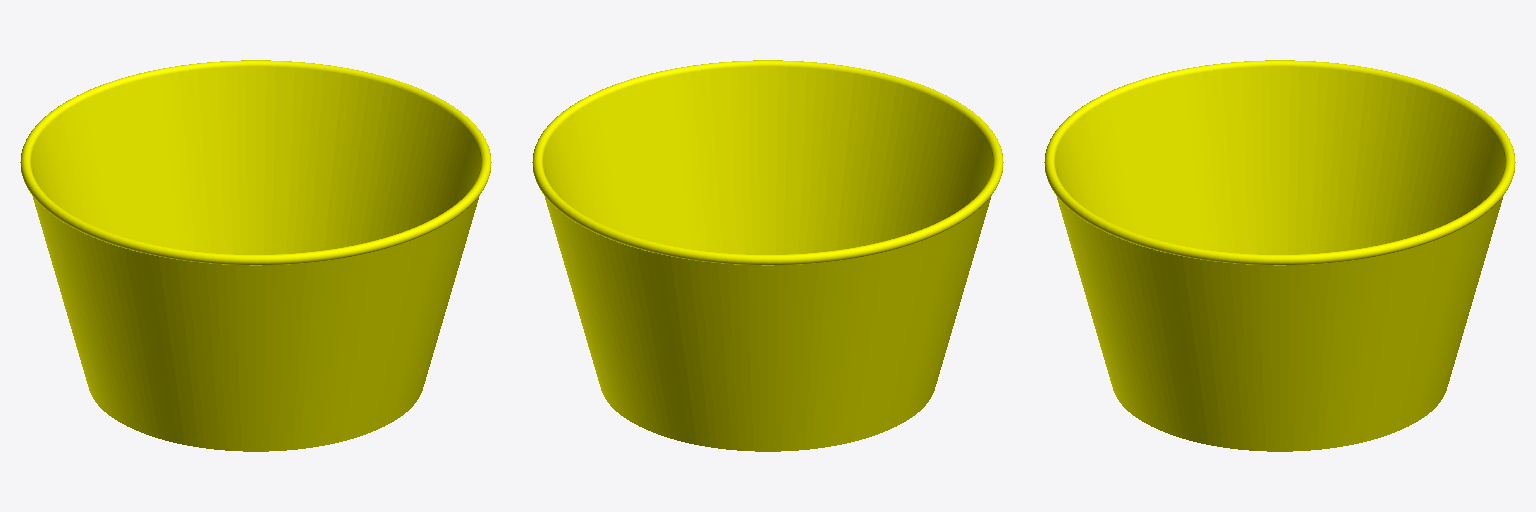
URDF robot description (paper_cup_broad):
<?xml version="1.0" ?>
<robot name="paper_cup_broad">
  <link name="paper_cup_broad">
    <inertial>
       <mass value="0.014"/>
<!--       <origin rpy="0 0 0" xyz="0 0 0.032"/>-->
       <origin rpy="0 0 0" xyz="0 0 0.005"/>
       <inertia ixx="0.000013717" ixy="0.0" ixz="0.0" iyy="0.000013717" iyz="0.0" izz="0.000010779"/>
    </inertial>
    <visual>
<!--      <origin rpy="0 0 0" xyz="0 0 0.037"/>-->
      <origin rpy="0 0 0" xyz="0 0 0"/>
      <geometry>
        <mesh filename="package://objects/meshes/paper_cup_broad.obj" scale="1 1 1"/>
      </geometry>
      <material name="white">
        <color rgba="1.0 1.0 0.0 0.0"/>
      </material>
    </visual>
    <collision>
<!--      <origin rpy="0 0 0" xyz="0 0 0.037"/>-->
      <origin rpy="0 0 0" xyz="0 0 0"/>
      <geometry>
        <mesh filename="package://objects/meshes/paper_cup_broad.obj" scale="1 1 1"/>
      </geometry>
    </collision>
  </link>

</robot>

--- Render facts (derived) ---
Views: 3 orthographic renders of the robot side by side, from view 1: azimuth 30°, elevation 25°; view 2: azimuth 150°, elevation 25°; view 3: azimuth 270°, elevation 25°.
Model paper_cup_broad with 1 links and 0 joints (none), rooted at paper_cup_broad, posed every joint at zero.
Visible links, largest first — view 1: paper_cup_broad; view 2: paper_cup_broad; view 3: paper_cup_broad.
Boxes of the visible links, left/top/right/bottom form: paper_cup_broad: left=20, top=60, right=491, bottom=451; paper_cup_broad: left=532, top=60, right=1003, bottom=451; paper_cup_broad: left=1044, top=60, right=1515, bottom=451.
Bounding box of the posed robot: 0.14 × 0.14 × 0.073 m (x, y, z).
1 mesh visuals loaded from 1 distinct referenced files (1 OBJ).